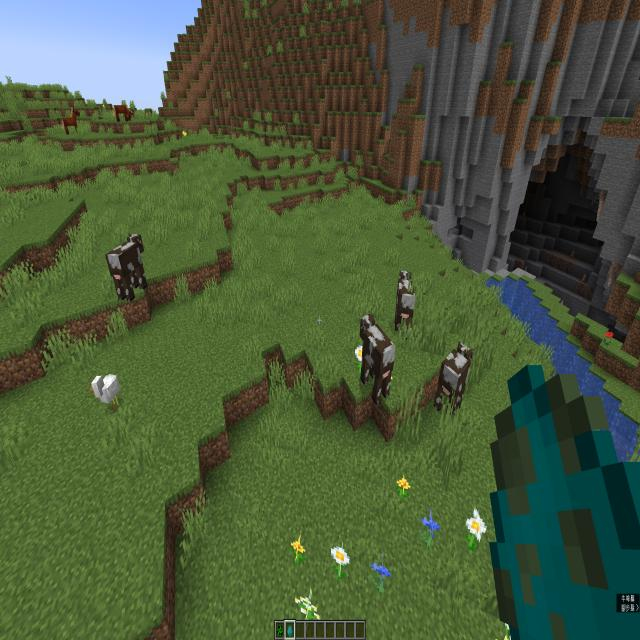chicken: (81, 352, 129, 423)
cow: (349, 303, 398, 421), (100, 229, 158, 309), (432, 328, 475, 434), (387, 253, 425, 344)
